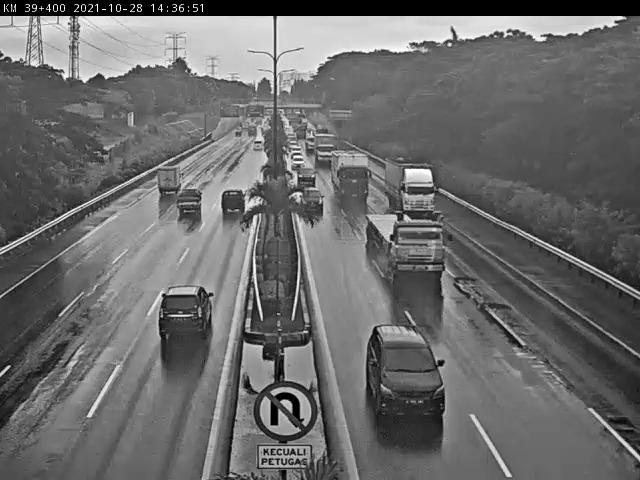big truck: (370, 217, 450, 281), (382, 152, 434, 207), (336, 152, 363, 198)
car: (362, 317, 433, 406), (131, 280, 220, 342), (219, 191, 237, 221), (298, 163, 316, 181)
small truck: (168, 195, 196, 226), (149, 172, 171, 200)
